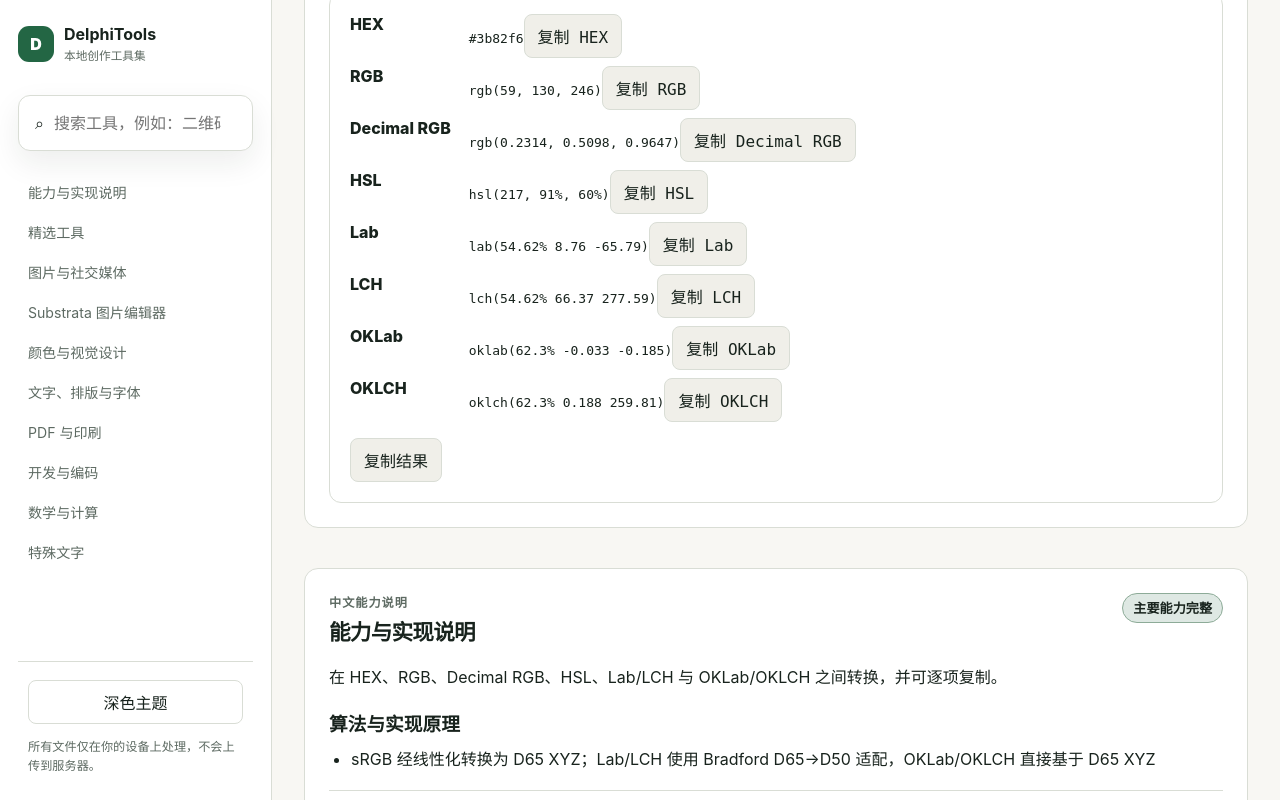
Test: 颜色工具工作区 › 转换器展示八种格式，并逐项复制 OKLCH 后提供中文反馈
(page scrolled)
Expected: the text "Decimal RGB" is shown, [350,118,451,138]
Expected: the text "OKLCH" is shown, [350,378,407,398]
Click the button "复制 OKLCH" at (723, 400), box [664,378,782,422]
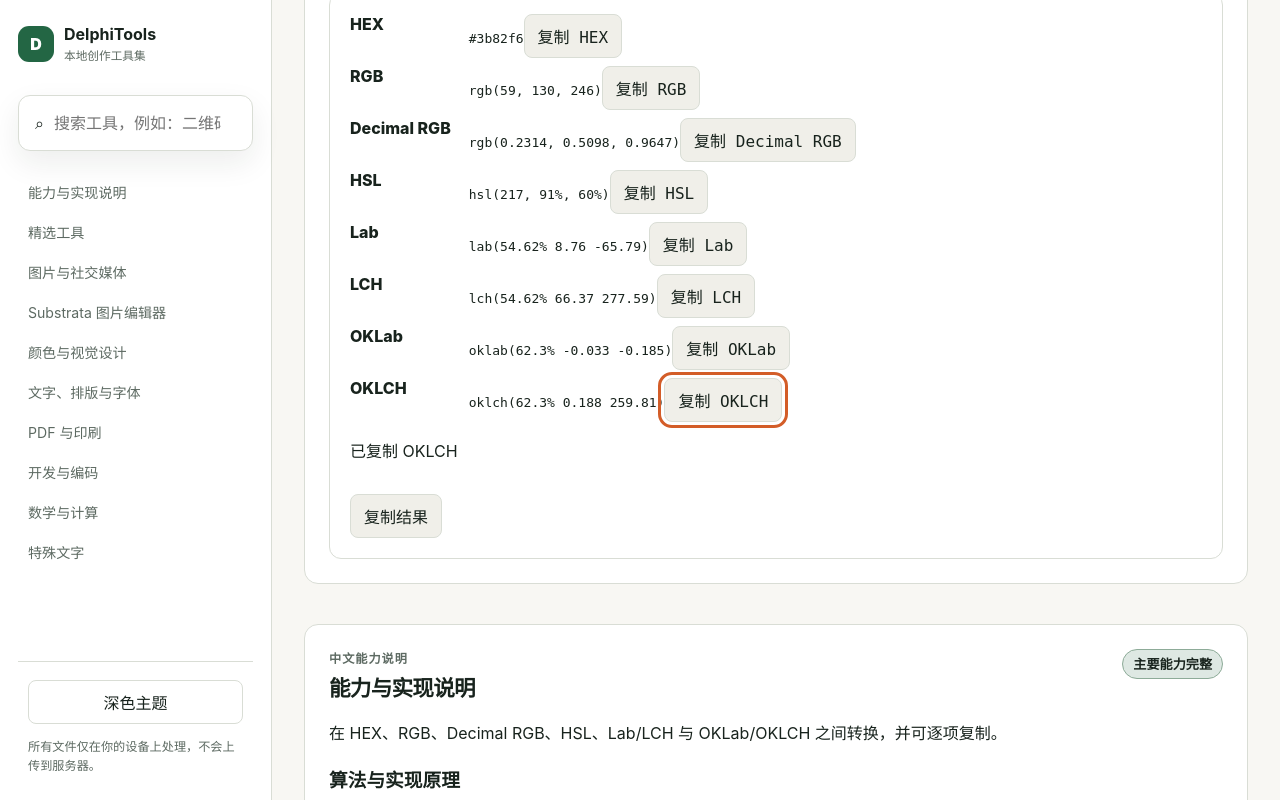
Result: the message reads "已复制 OKLCH" at [350,441,458,461]
